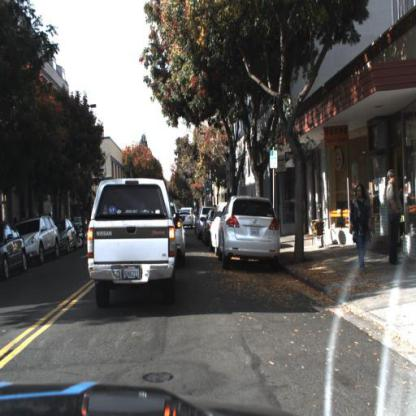car: (87, 180, 177, 307), (219, 193, 282, 270), (24, 216, 60, 265), (1, 224, 29, 279), (211, 201, 224, 260), (173, 211, 187, 265), (59, 218, 78, 254), (59, 213, 77, 247), (180, 207, 197, 228), (182, 206, 194, 231)
pedestrian: (349, 179, 375, 275), (350, 184, 372, 271), (386, 168, 402, 270), (388, 170, 403, 266)
